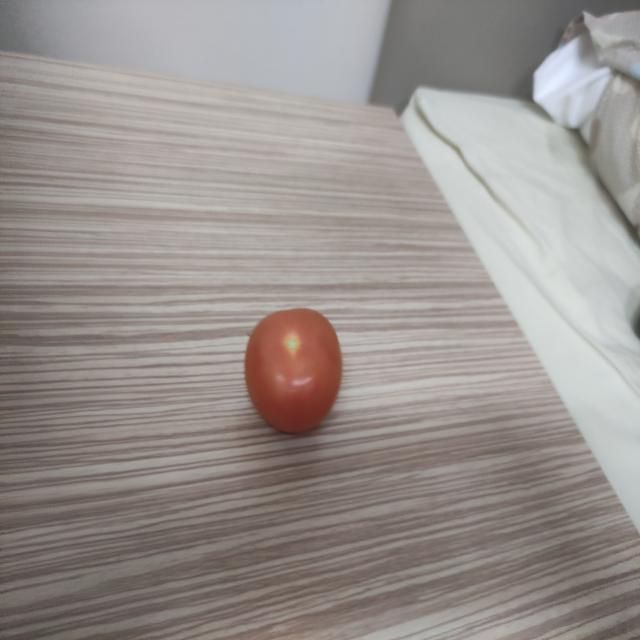sari: (241, 291, 349, 439)
